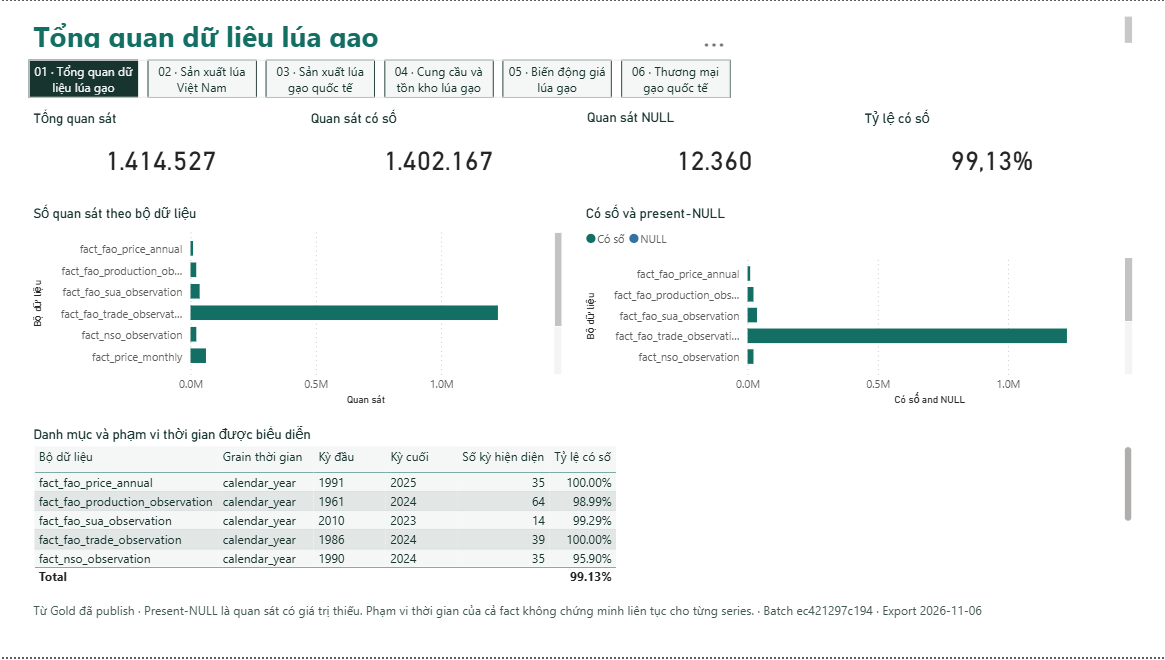

Layout of this report page (visuals, bound fields, positions):
{"tool":"powerbi","page":{"name":"01 · Tổng quan dữ liệu lúa gạo","canvas":[1280,720],"ordinal":0},"visuals":[{"type":"textbox","box":[32,12,1216,44],"z":1},{"type":"pageNavigator","box":[32,64,770,42],"z":2},{"type":"card","title":"Tổng quan sát","fields":{"Values":["Overview.Total Observations Display"]},"box":[32,120,290,90],"z":3},{"type":"card","title":"Quan sát có số","fields":{"Values":["Overview.Numeric Observations Display"]},"box":[336,120,290,90],"z":4},{"type":"card","title":"Quan sát NULL","fields":{"Values":["Overview.Present NULL Display"]},"box":[640,120,290,90],"z":5},{"type":"card","title":"Tỷ lệ có số","fields":{"Values":["Overview.Numeric Coverage Display"]},"box":[944,120,290,90],"z":6},{"type":"barChart","title":"Số quan sát theo bộ dữ liệu","fields":{"Category":["Overview.fact_name"],"Y":["Overview.Total Observations"]},"box":[32,224,590,225],"z":7},{"type":"barChart","title":"Có số và present-NULL","fields":{"Category":["Overview.fact_name"],"Y":["Overview.Numeric Observations","Overview.Present NULL"]},"box":[638,224,610,225],"z":8},{"type":"tableEx","title":"Danh mục và phạm vi thời gian được biểu diễn","fields":{"Values":["Overview.fact_name","Overview.period_grain","Overview.period_min","Overview.period_max","Overview.represented_periods","Overview.Numeric Coverage"]},"box":[32,466,1216,180],"z":9},{"type":"textbox","box":[32,654,1216,56],"z":90}]}

Visuals, with their boxes in screenshot pixels (x1, y1, x2, y2), scaled from the page's 1280x720 canvas onto the 1165x660 screenshot:
textbox: [left=29, top=11, right=1136, bottom=51]
pageNavigator: [left=29, top=59, right=730, bottom=97]
"Tổng quan sát" card: [left=29, top=110, right=293, bottom=192]
"Quan sát có số" card: [left=306, top=110, right=570, bottom=192]
"Quan sát NULL" card: [left=582, top=110, right=846, bottom=192]
"Tỷ lệ có số" card: [left=859, top=110, right=1123, bottom=192]
"Số quan sát theo bộ dữ liệu" barChart: [left=29, top=205, right=566, bottom=412]
"Có số và present-NULL" barChart: [left=581, top=205, right=1136, bottom=412]
"Danh mục và phạm vi thời gian được biểu diễn" tableEx: [left=29, top=427, right=1136, bottom=592]
textbox: [left=29, top=600, right=1136, bottom=651]
